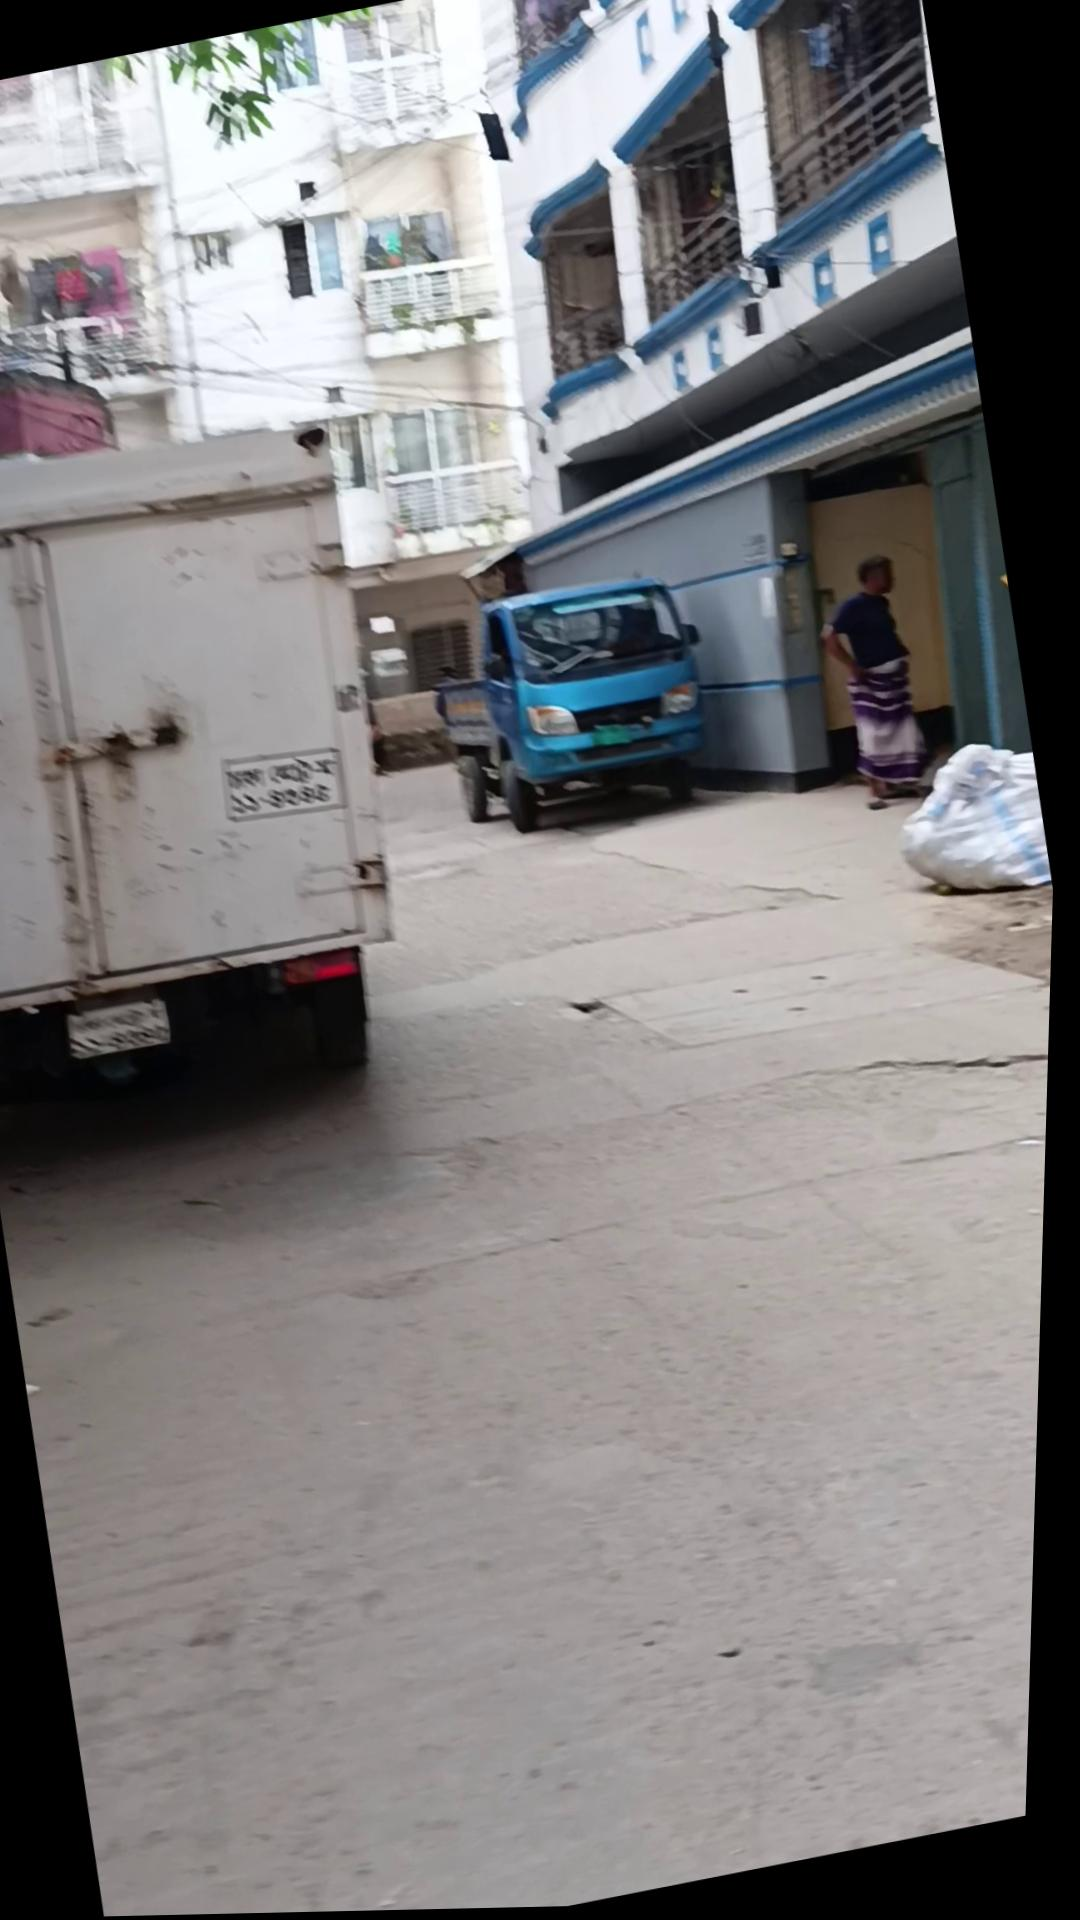Broken-road: (0, 651, 1064, 1920)
Crosswalk: (575, 909, 1059, 1083)
Muddy road: (807, 553, 948, 819)
Traffic-sign: (0, 392, 443, 1125), (418, 562, 733, 852)
